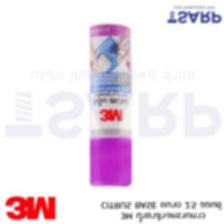aerosol_cans: (84, 20, 134, 190)
